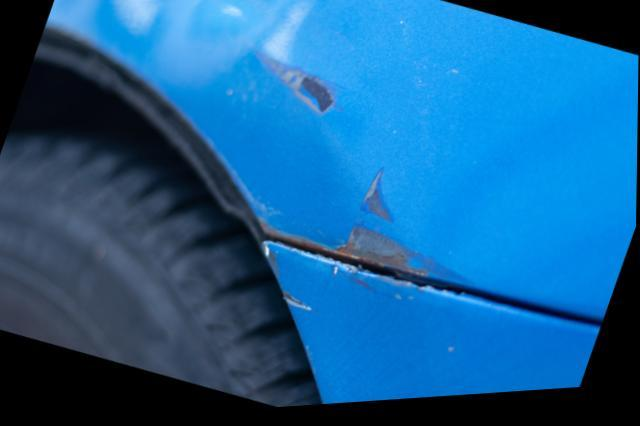scratch: (268, 164, 458, 290), (245, 50, 342, 123)
